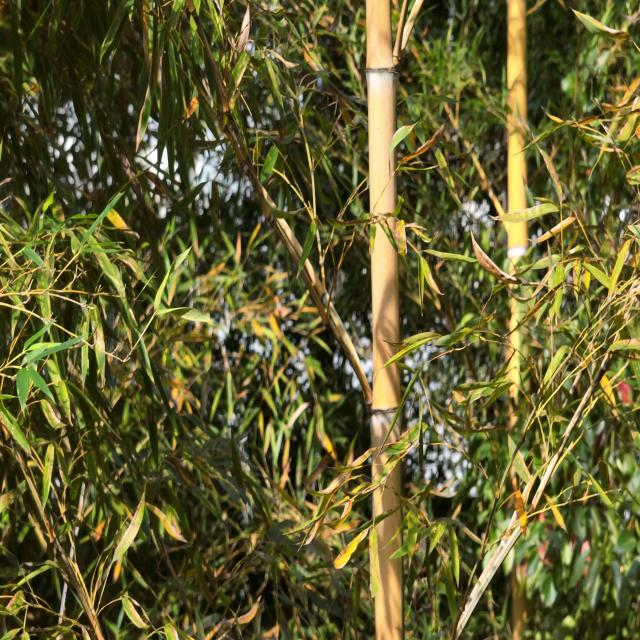Bamboo-shoots: (366, 0, 405, 640)
